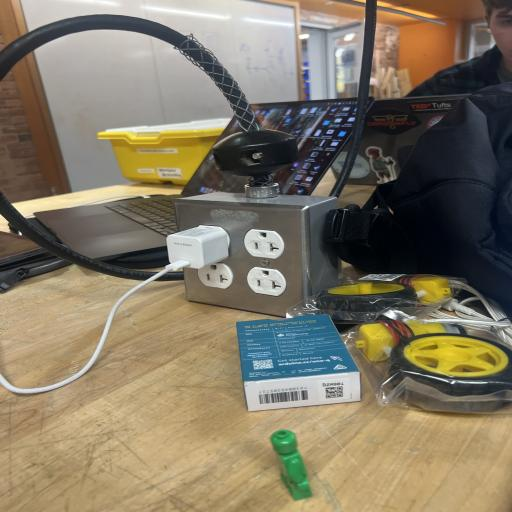green-lego-minifigure-detector: (270, 429, 311, 500)
